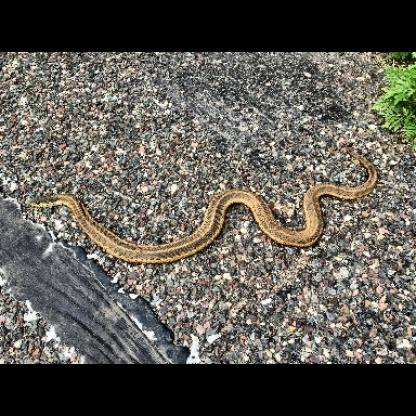Snake: (24, 147, 385, 267)
